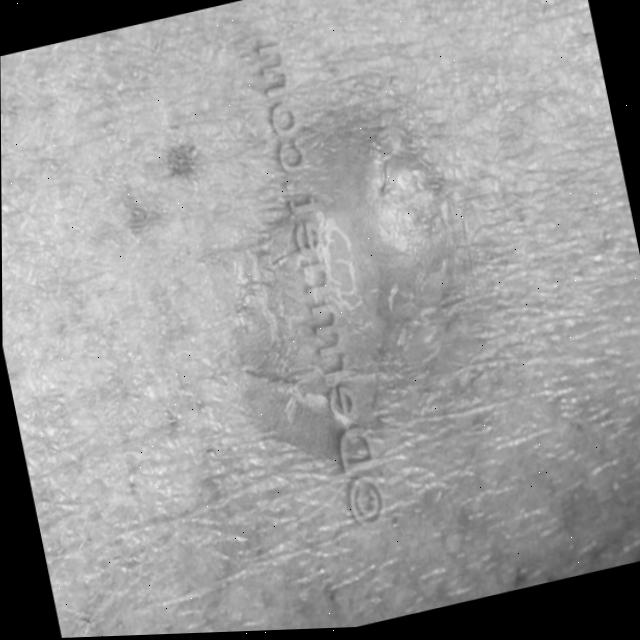Eczema: (262, 162, 431, 378)
